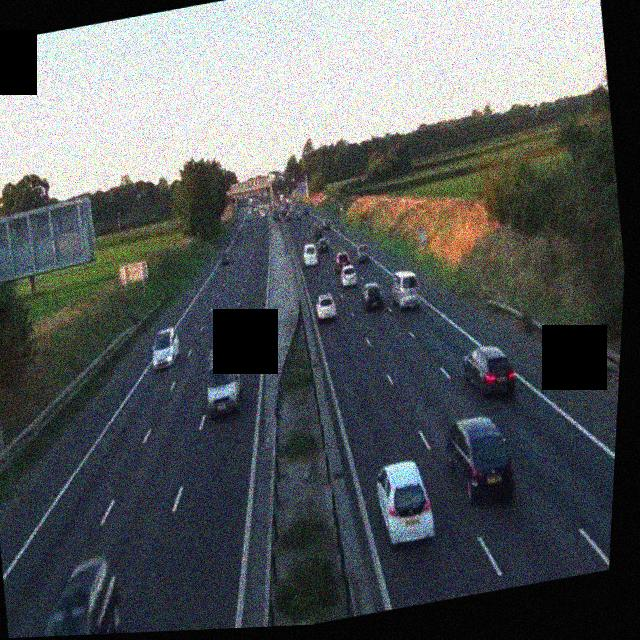car: (16, 553, 130, 638), (440, 410, 521, 510), (369, 456, 439, 548), (459, 342, 520, 404), (200, 344, 247, 418), (148, 325, 184, 370), (388, 268, 424, 313), (360, 281, 386, 314), (313, 290, 339, 322), (338, 262, 359, 289), (301, 244, 320, 267), (353, 244, 371, 266), (334, 249, 351, 271), (316, 235, 332, 256), (218, 251, 231, 267), (315, 221, 328, 237), (323, 217, 334, 231), (283, 211, 293, 223), (259, 207, 267, 218)
